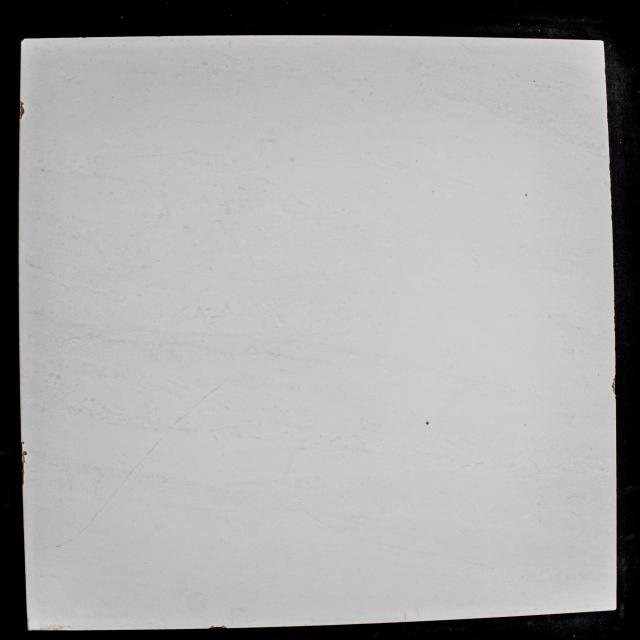edge-chipping: (21, 442, 27, 486), (612, 374, 616, 396), (20, 100, 24, 120), (208, 626, 227, 630), (21, 38, 24, 42)
hole: (426, 421, 429, 425), (525, 194, 527, 196), (533, 81, 535, 82)
line: (59, 370, 241, 547), (404, 612, 406, 622)
